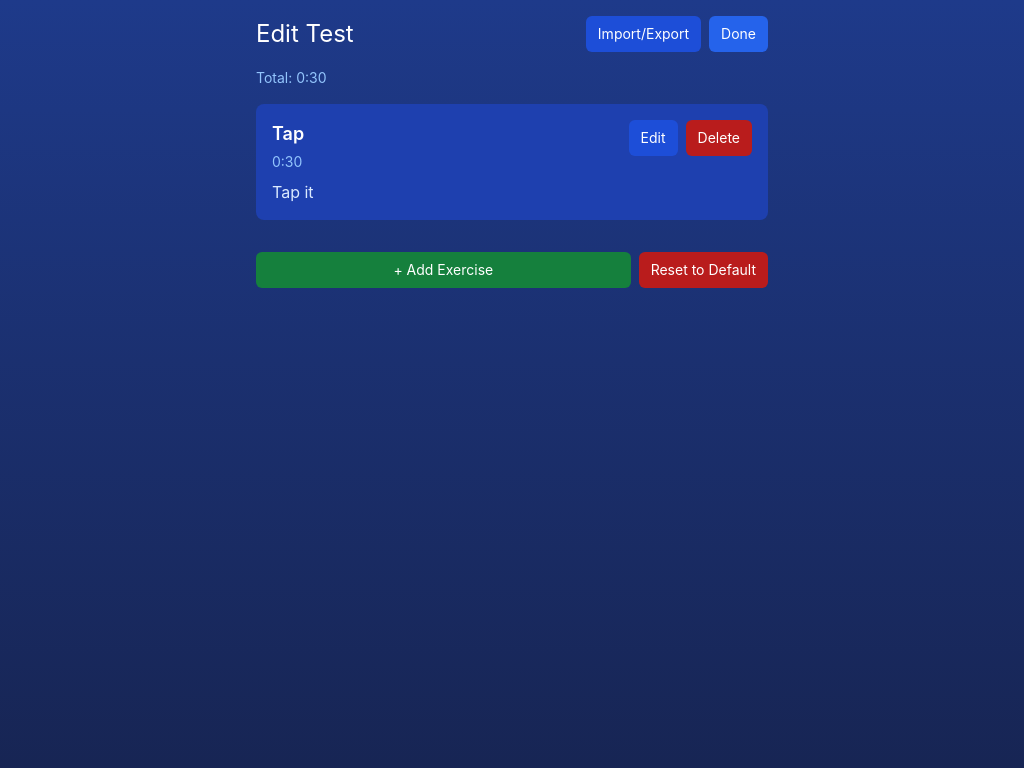
Test case: EditView cancel › keeps an existing exercise when cancelling its edit
The width and height of the screenshot is (1024, 768).
What coordinates should you click on to do the following:
click the button "Edit"
I would click on:
 (653, 138)
Its box is [629, 120, 678, 156].
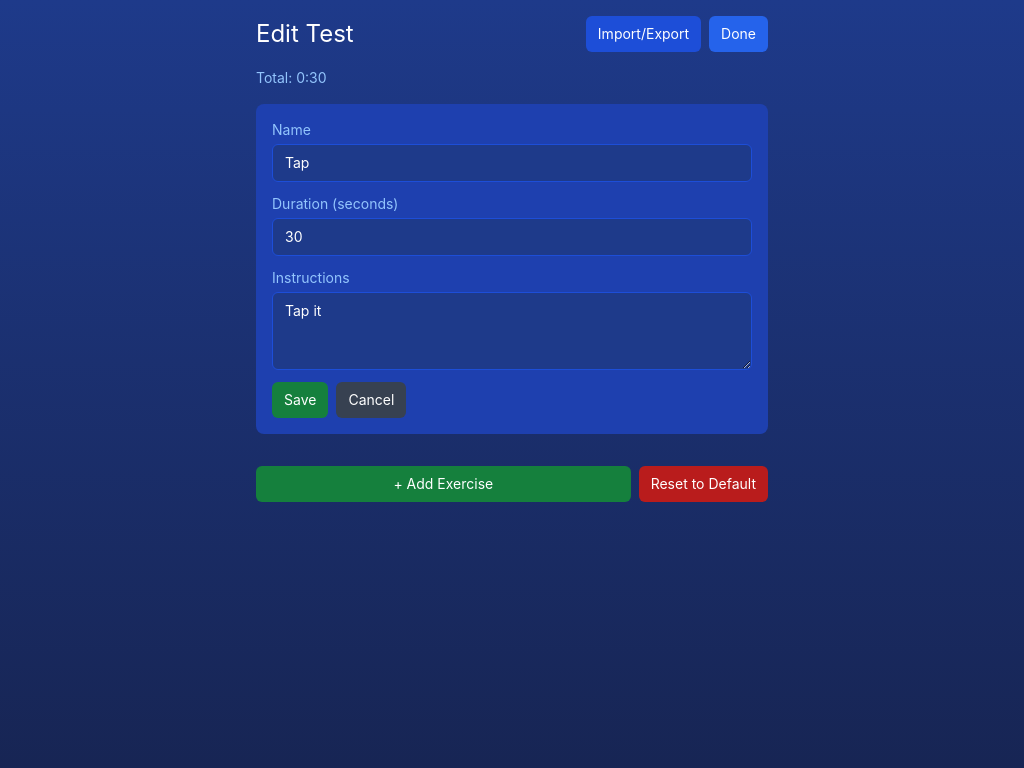
What coordinates should you click on to do the following:
click the button "Cancel"
I would click on:
 (371, 400)
Its box is [336, 382, 406, 418].
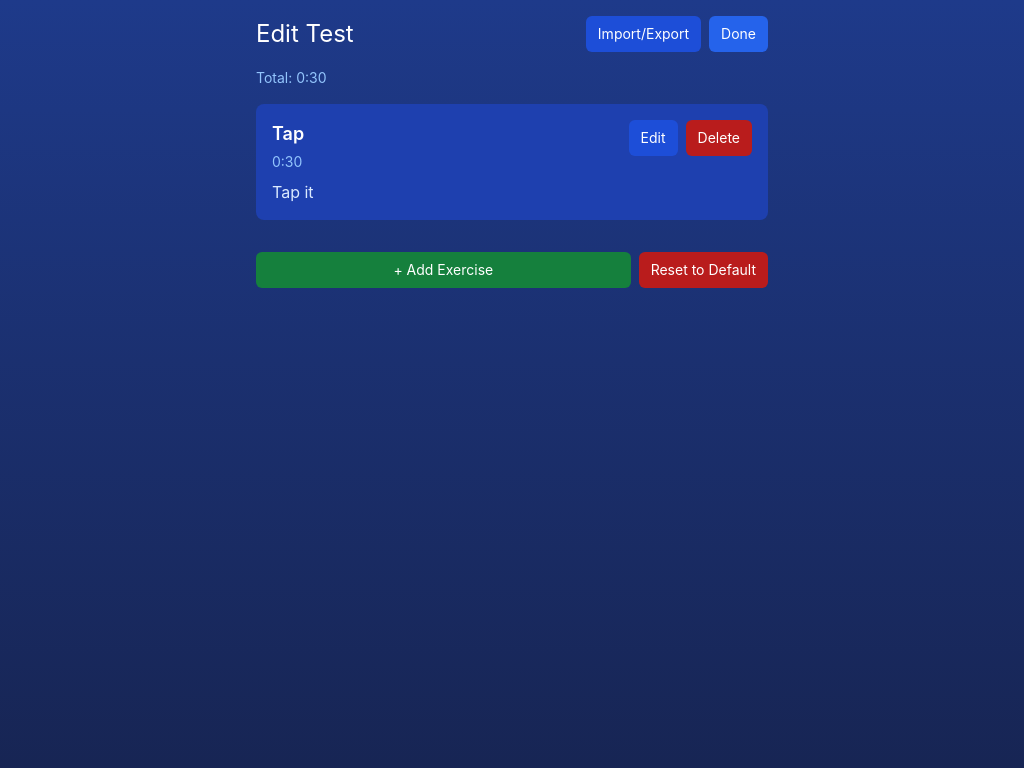
Expected: the heading "Tap" is shown, [272, 120, 304, 148]
